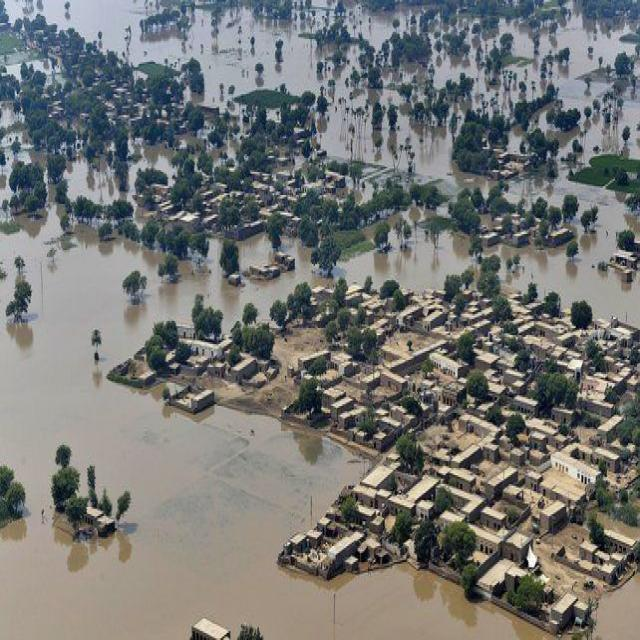flooded_areas: (0, 9, 622, 282), (3, 264, 399, 638)
